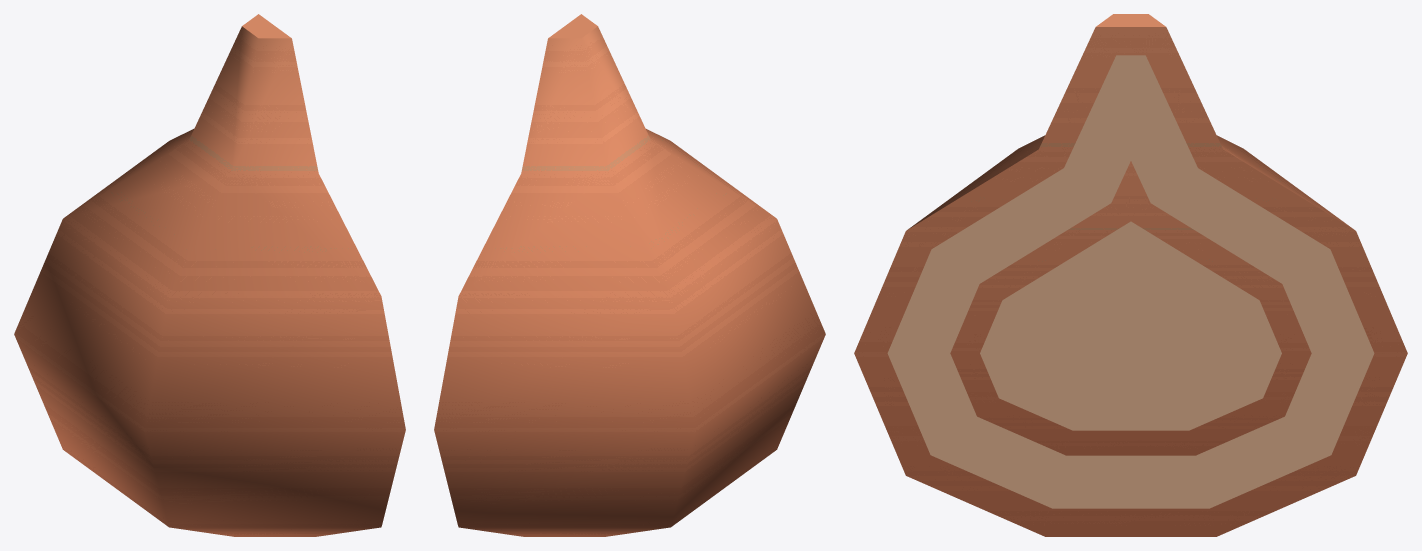
File: onion-half.glb
3 views of the same model, side by side, from view 1: azimuth 30°, elevation 25°; view 2: azimuth 150°, elevation 25°; view 3: azimuth 270°, elevation 25° (orthographic). The views are drawn at different scales.
Parts seen in each view (by area): view 1: onion-half; view 2: onion-half; view 3: onion-half.
Boxes of the visible parts, bbox=[...] form: onion-half: bbox=[14, 14, 405, 536]; onion-half: bbox=[434, 14, 825, 536]; onion-half: bbox=[854, 14, 1407, 536].
Bounding box in the file's own units: 0.1065 × 0.25 × 0.246.
1 material, 1 textured.
